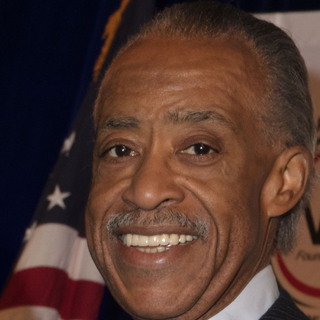eye: (178, 136, 225, 163), (100, 139, 142, 164)
